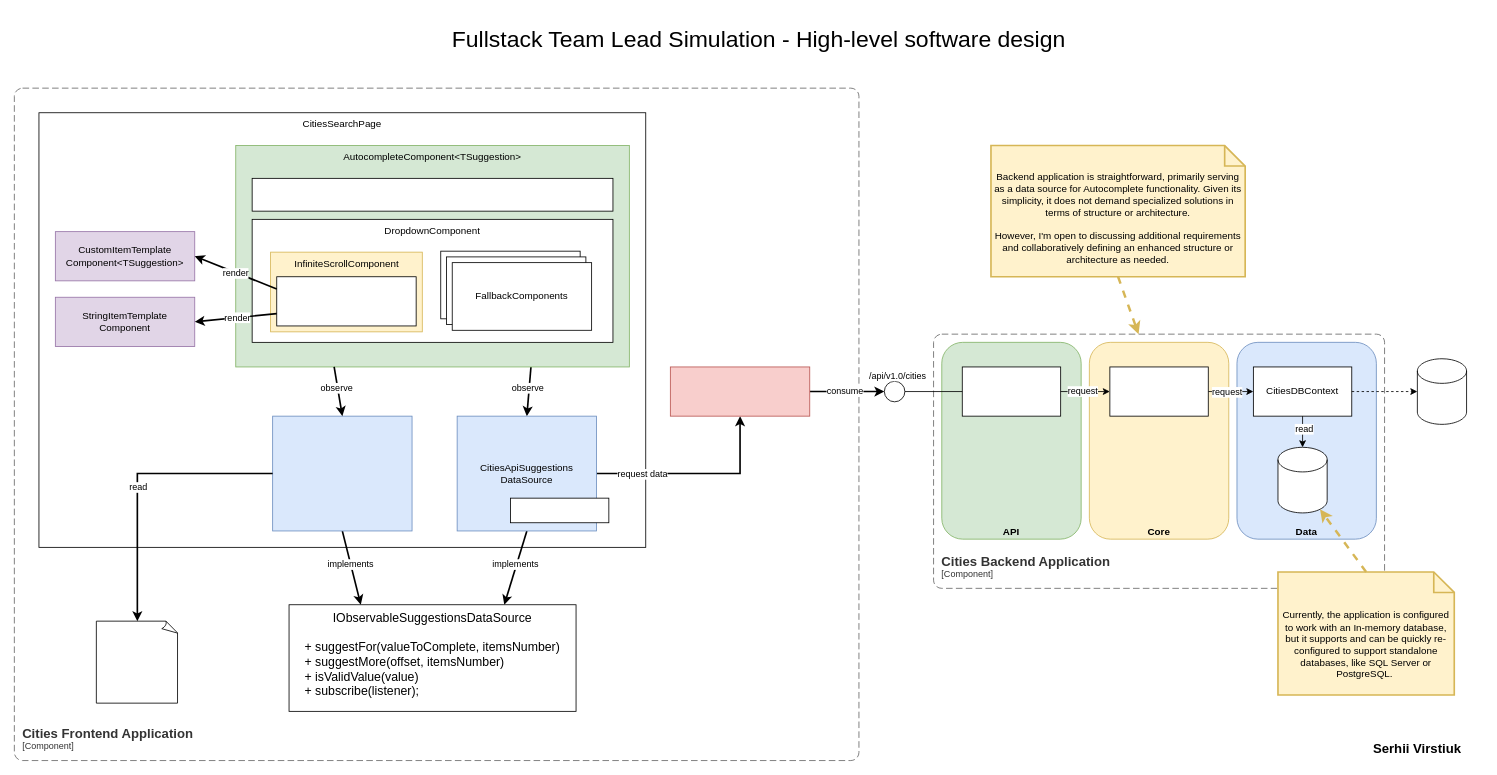
Some shapes in this 1497 by 775 pixel diagram are drawn without their labels. Each missing label, with the centre of its shape:
"Cache" belongs at point (559, 510).
"Cities JSON object" belongs at point (137, 661).
"CitiesApiClient" belongs at point (740, 391).
"CitiesController" belongs at point (1011, 391).
"CitiesRead Repository" belongs at point (1158, 391).
"In-Memory Database" belongs at point (1302, 479).
"InputComponent" belongs at point (432, 194).
"LocalDataSource" belongs at point (342, 473).
"Standalone database" belongs at point (1442, 391).
"VirtalizedListComponent <TSuggestion>" belongs at point (346, 301).
